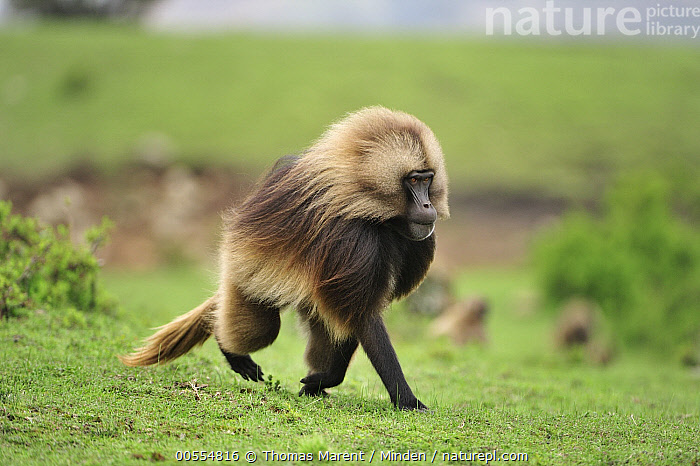Gelada: (199, 119, 481, 391)
